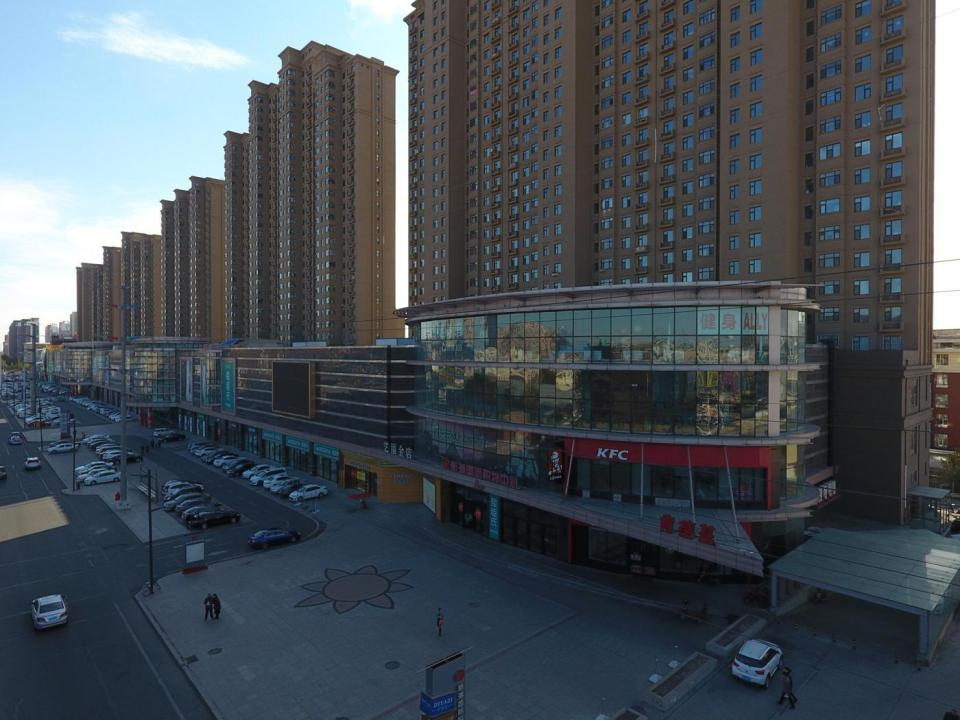car: (732, 640, 781, 688), (29, 594, 68, 629), (248, 528, 300, 550), (188, 509, 241, 527), (163, 492, 211, 511), (175, 498, 223, 516), (180, 505, 224, 524), (162, 485, 202, 502), (164, 483, 204, 499), (162, 479, 202, 495), (280, 482, 318, 498), (270, 480, 307, 495), (290, 484, 326, 499), (265, 475, 301, 490), (84, 471, 121, 485), (243, 464, 277, 478), (104, 454, 142, 466), (94, 443, 132, 455), (78, 469, 115, 481), (79, 464, 116, 476), (87, 438, 124, 450), (81, 434, 116, 446), (96, 446, 134, 457), (90, 441, 128, 452), (216, 456, 248, 469), (202, 448, 234, 461), (186, 441, 218, 454), (77, 462, 114, 473), (103, 451, 140, 462), (99, 450, 136, 461), (84, 437, 121, 448), (208, 452, 239, 465), (196, 446, 228, 458), (228, 462, 255, 476), (191, 444, 222, 456), (223, 459, 249, 471), (48, 443, 78, 453), (159, 432, 186, 443), (50, 439, 76, 449), (15, 406, 38, 415), (26, 417, 48, 426), (22, 410, 44, 419), (17, 408, 39, 417), (53, 417, 77, 425), (24, 457, 40, 469), (28, 420, 51, 428), (154, 428, 174, 437), (26, 414, 48, 422), (19, 410, 41, 418), (47, 411, 68, 419), (108, 412, 129, 420), (92, 404, 112, 412), (44, 410, 66, 417), (53, 413, 74, 420), (49, 413, 70, 420), (111, 414, 132, 421), (104, 410, 125, 417), (98, 407, 119, 414), (100, 408, 121, 415), (43, 407, 61, 415), (94, 405, 114, 412), (42, 406, 60, 413), (115, 416, 136, 422), (106, 412, 127, 418), (80, 398, 95, 406), (87, 402, 102, 409), (75, 397, 90, 404), (73, 395, 88, 402), (9, 431, 22, 439), (9, 436, 22, 444), (70, 394, 84, 401), (77, 398, 92, 404), (0, 464, 6, 479), (84, 400, 98, 406)
van: (250, 468, 288, 484)
